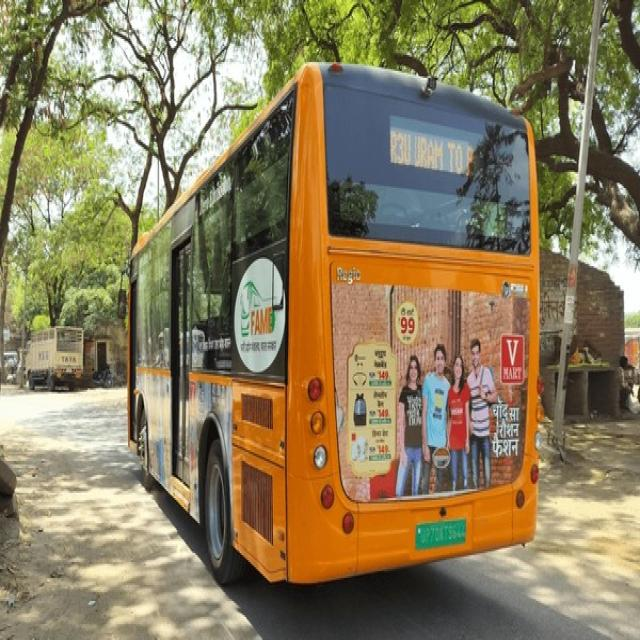bus: (128, 64, 540, 582)
